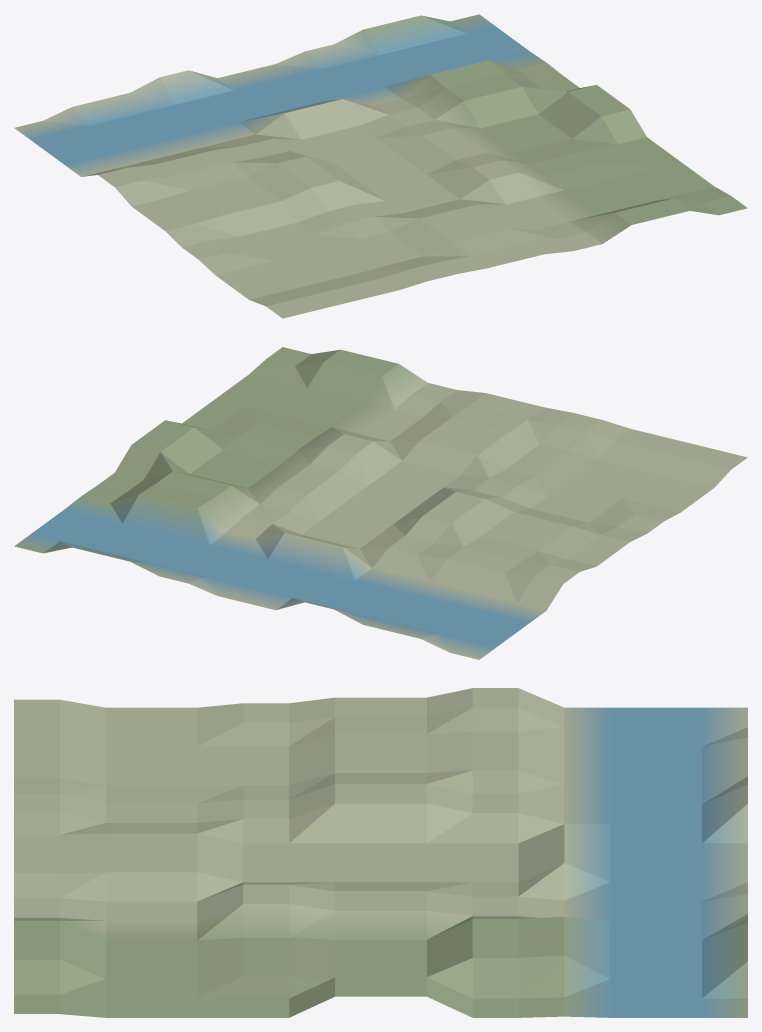
3 views of the same model, one above another, from view 1: azimuth 30°, elevation 25°; view 2: azimuth 150°, elevation 25°; view 3: azimuth 270°, elevation 25° (orthographic). The views are drawn at different scales.
Size of the model in its own units: 32 by 1.14 by 32.
